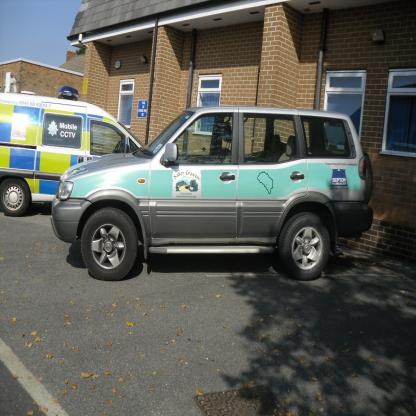Car: (51, 107, 374, 282)
